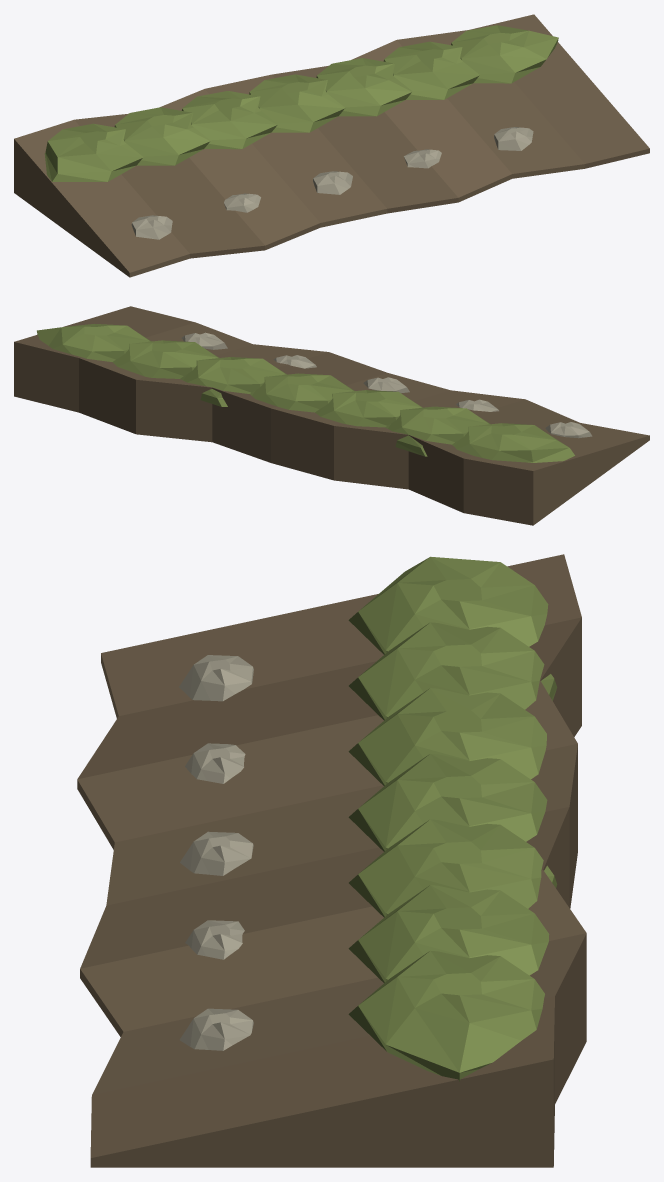
File: muddy-bank.glb
3 renders of one model, top to bottom at view 1: azimuth 30°, elevation 25°; view 2: azimuth 150°, elevation 25°; view 3: azimuth 270°, elevation 25°, orthographic. The views are drawn at different scales.
Visible parts, largest first — view 1: muddy-bank; view 2: muddy-bank; view 3: muddy-bank.
Part boxes in pixels (left/top/right/bottom): muddy-bank: left=14, top=14, right=649, bottom=277; muddy-bank: left=14, top=306, right=649, bottom=525; muddy-bank: left=77, top=554, right=586, bottom=1167.
Size of the model in its own units: 4.02 by 0.4689 by 1.7.
